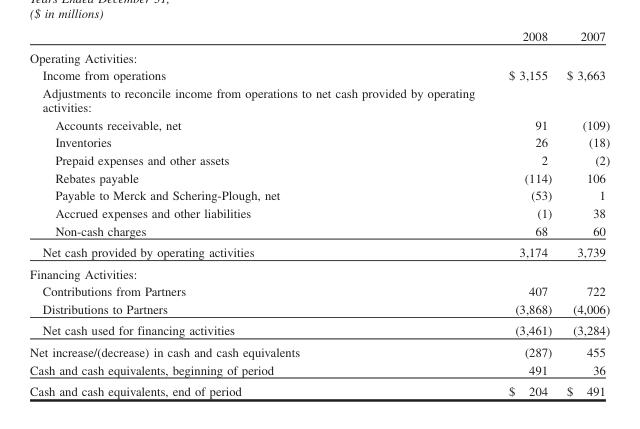table: (29, 28, 609, 397)
table column: (29, 28, 403, 397), (403, 28, 558, 397), (558, 28, 609, 397)
table column header: (29, 28, 609, 46)
table projected row header: (29, 83, 609, 115), (29, 46, 609, 66), (29, 262, 609, 282)
table row: (29, 83, 609, 115), (29, 241, 609, 262), (29, 319, 609, 340), (29, 46, 609, 66), (29, 221, 609, 241), (29, 262, 609, 282), (29, 299, 609, 319), (29, 340, 609, 360), (29, 360, 609, 380), (29, 28, 609, 46), (29, 115, 609, 133), (29, 150, 609, 168), (29, 168, 609, 186), (29, 203, 609, 221), (29, 66, 609, 83), (29, 133, 609, 150), (29, 186, 609, 203), (29, 282, 609, 299), (29, 380, 609, 397)
